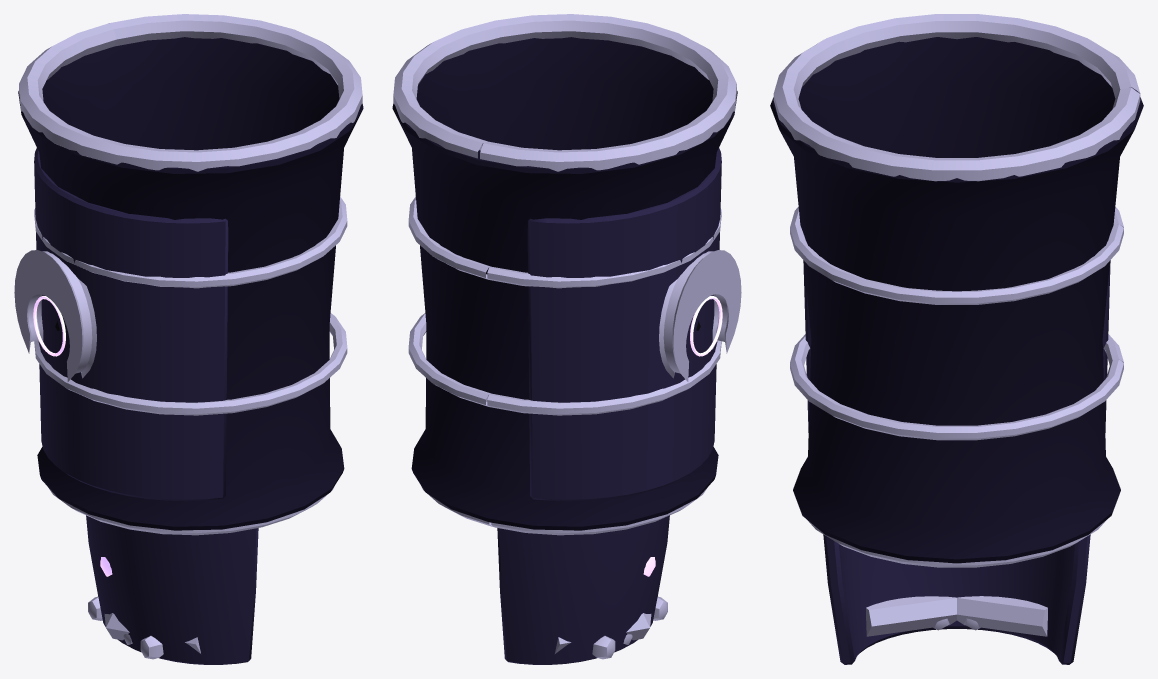
Rendered from asc_nightsky_reaver_gloves_R.glb.
3 views of the same model, side by side, from view 1: azimuth 30°, elevation 25°; view 2: azimuth 150°, elevation 25°; view 3: azimuth 270°, elevation 25° (orthographic). The views are drawn at different scales.
Parts seen in each view (by area): view 1: asc_nightsky_reaver_gloves, AT_hand_R; view 2: asc_nightsky_reaver_gloves, AT_hand_R; view 3: asc_nightsky_reaver_gloves, AT_hand_R.
Boxes of the visible parts, x1,y1,x2,y2 form: asc_nightsky_reaver_gloves: [14, 14, 363, 535]; AT_hand_R: [86, 515, 258, 664]; asc_nightsky_reaver_gloves: [392, 14, 741, 535]; AT_hand_R: [497, 515, 669, 664]; asc_nightsky_reaver_gloves: [770, 14, 1143, 567]; AT_hand_R: [823, 534, 1090, 664].
Size of the model in its own units: 0.1971 by 0.3408 by 0.2004.
